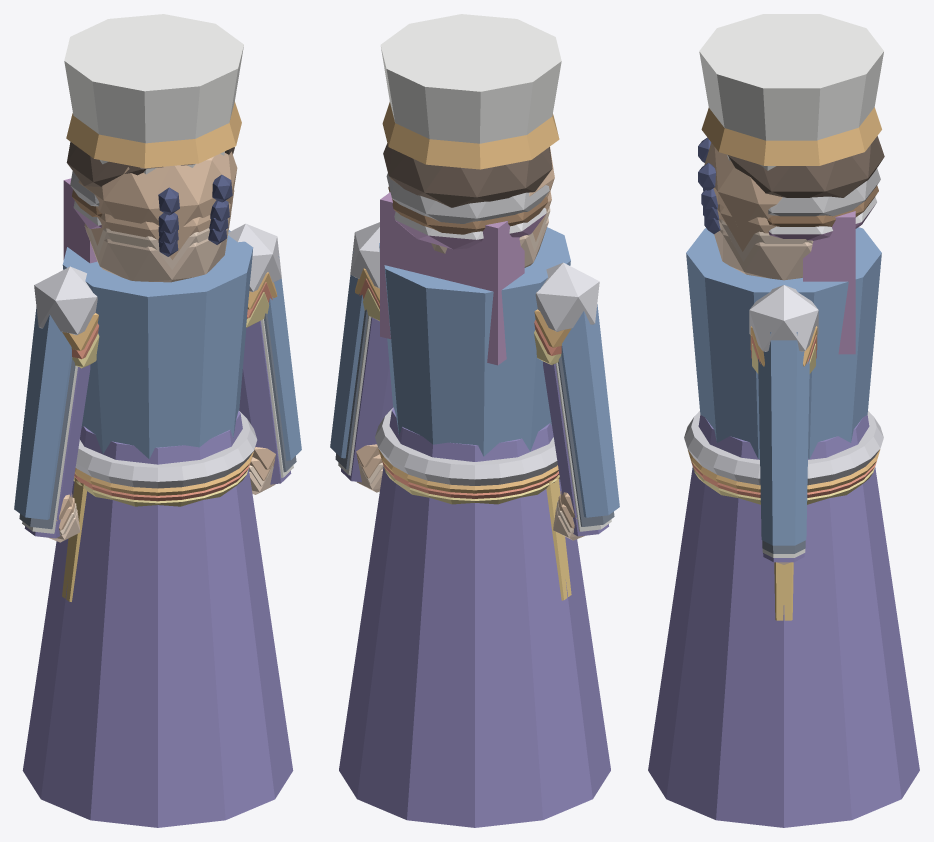
The model's file is npc.glb.
The picture shows the model from 3 angles, left to right: view 1: azimuth 30°, elevation 25°; view 2: azimuth 150°, elevation 25°; view 3: azimuth 270°, elevation 25°; orthographic projection.
Parts seen in each view (by area): view 1: NPC_Elder, NPC_Guard, NPC_Cook_Head, NPC_Guard_Head, NPC_Keeper_Head, NPC_Keeper, NPC_Elder_Head, NPC_Cook, NPC_Scholar_Head, NPC_Child; view 2: NPC_Elder, NPC_Guard, NPC_Cook_Head, NPC_Scholar_Head, NPC_Keeper_Head, NPC_Guard_Head, NPC_Keeper, NPC_Cook, NPC_Elder_Head, NPC_Child; view 3: NPC_Elder, NPC_Guard, NPC_Cook_Head, NPC_Keeper_Head, NPC_Guard_Head, NPC_Scholar_Head, NPC_Elder_Head, NPC_Keeper, NPC_Cook, NPC_Child.
Part boxes in pixels (x1=…): NPC_Elder: x1=22, y1=292, x2=293, y2=827; NPC_Guard: x1=14, y1=223, x2=301, y2=520; NPC_Cook_Head: x1=64, y1=14, x2=243, y2=269; NPC_Guard_Head: x1=66, y1=142, x2=237, y2=232; NPC_Keeper_Head: x1=66, y1=101, x2=241, y2=259; NPC_Keeper: x1=19, y1=272, x2=296, y2=530; NPC_Elder_Head: x1=73, y1=201, x2=231, y2=282; NPC_Cook: x1=22, y1=282, x2=293, y2=535; NPC_Scholar_Head: x1=63, y1=178, x2=101, y2=263; NPC_Child: x1=62, y1=478, x2=86, y2=601; NPC_Elder: x1=339, y1=288, x2=610, y2=827; NPC_Guard: x1=330, y1=222, x2=619, y2=518; NPC_Cook_Head: x1=380, y1=14, x2=561, y2=251; NPC_Scholar_Head: x1=380, y1=192, x2=546, y2=365; NPC_Keeper_Head: x1=382, y1=102, x2=559, y2=241; NPC_Guard_Head: x1=383, y1=143, x2=554, y2=207; NPC_Keeper: x1=335, y1=268, x2=614, y2=528; NPC_Cook: x1=338, y1=278, x2=611, y2=533; NPC_Elder_Head: x1=394, y1=208, x2=548, y2=267; NPC_Child: x1=546, y1=475, x2=571, y2=600; NPC_Elder: x1=648, y1=343, x2=919, y2=827; NPC_Guard: x1=684, y1=227, x2=883, y2=545; NPC_Cook_Head: x1=699, y1=14, x2=883, y2=261; NPC_Keeper_Head: x1=701, y1=107, x2=881, y2=251; NPC_Guard_Head: x1=698, y1=136, x2=884, y2=231; NPC_Scholar_Head: x1=768, y1=204, x2=875, y2=354; NPC_Elder_Head: x1=704, y1=197, x2=876, y2=280; NPC_Keeper: x1=688, y1=326, x2=879, y2=553; NPC_Cook: x1=691, y1=335, x2=876, y2=557; NPC_Child: x1=774, y1=562, x2=793, y2=620.
Bounding box in the file's own units: 0.8504 × 2.11 × 0.72.
